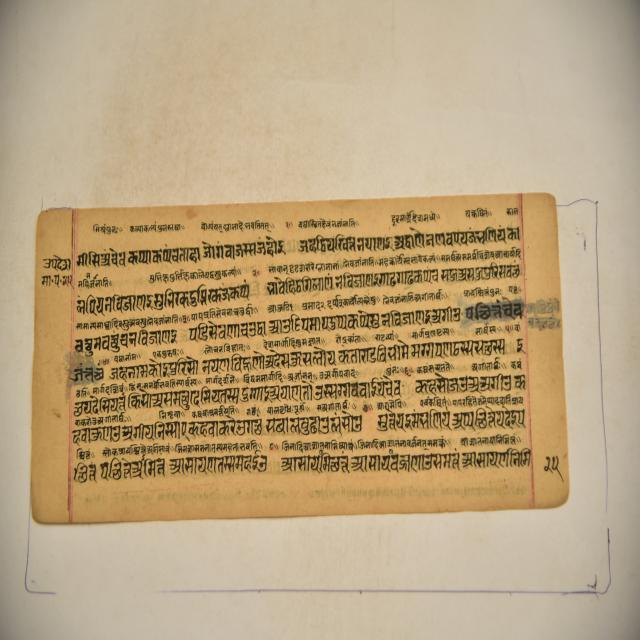text_paragraph: (29, 190, 570, 523)
